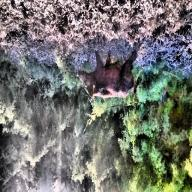boar: (77, 48, 138, 101)
